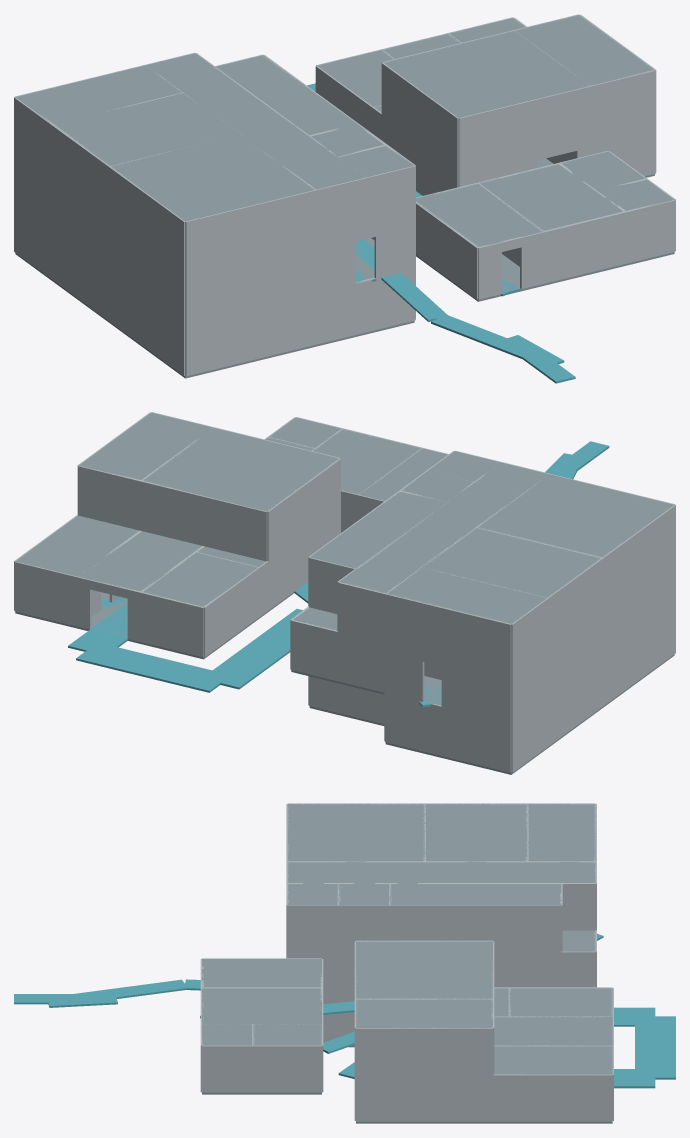
File: furnished.glb
3 views of the same model, one above another, from view 1: azimuth 30°, elevation 25°; view 2: azimuth 150°, elevation 25°; view 3: azimuth 270°, elevation 25° (orthographic). The views are drawn at different scales.
Visible parts, largest first — view 1: Ceiling cap hayloft, Ceiling cap parents, Ceiling cap upper-hall, Ceiling cap children, Wall root-store W, Wall hayloft S, Wall parents S, Wall parlour S, Wall root-store S, Ceiling cap repair, Ceiling cap loft-landing, Ceiling cap linen (+39 smaller); view 2: Ceiling cap hayloft, Ceiling cap parents, Ceiling cap upper-hall, Ceiling cap children, Wall linen N, Wall hayloft N, Wall root-store W, Wall preserves N, Wall cleaner N, Ceiling cap linen, Ceiling cap loft-landing, Ceiling cap upper-stair (+39 smaller); view 3: Ceiling cap hayloft, Ceiling cap parents, Wall upper-stair E, Ceiling cap upper-hall, Wall loft-landing E, Wall loft-stair E, Ceiling cap children, Wall equipment E, Ceiling cap repair, Ceiling cap loft-landing, Ceiling cap linen, Ceiling cap upper-stair (+24 smaller).
Part boxes in pixels (x1,y1,x2,y2): Ceiling cap hayloft: (383,31,589,117); Ceiling cap parents: (111,134,314,221); Ceiling cap upper-hall: (146,53,364,189); Ceiling cap children: (54,93,240,165); Wall root-store W: (51,228,185,375); Wall hayloft S: (458,86,590,169); Wall parents S: (185,189,316,273); Wall parlour S: (185,242,316,324); Wall root-store S: (185,293,316,376); Ceiling cap repair: (479,164,622,231); Ceiling cap loft-landing: (514,15,653,85); Ceiling cap linen: (15,65,182,124); Ceiling cap hayloft: (143,428,339,511); Ceiling cap parents: (478,474,674,557); Ceiling cap upper-hall: (339,462,548,593); Ceiling cap children: (422,528,600,597); Wall linen N: (385,593,511,673); Wall hayloft N: (141,480,267,561); Wall root-store W: (549,604,675,745); Wall preserves N: (385,693,511,772); Wall cleaner N: (290,620,384,692); Ceiling cap linen: (386,567,546,623); Ceiling cap loft-landing: (79,412,213,479); Ceiling cap upper-stair: (310,491,446,568); Ceiling cap hayloft: (356,941,492,999); Ceiling cap parents: (287,804,424,861); Wall upper-stair E: (390,905,561,952); Ceiling cap upper-hall: (287,861,595,883); Wall loft-landing E: (356,1027,492,1075); Wall loft-stair E: (356,1075,492,1121); Ceiling cap children: (424,804,527,861); Wall equipment E: (493,1074,612,1121); Ceiling cap repair: (202,988,321,1023); Ceiling cap loft-landing: (356,999,492,1027); Ceiling cap linen: (527,804,595,861); Ceiling cap upper-stair: (390,883,561,905).
Size of the model in its own units: 31.16 by 9.16 by 38.7.
